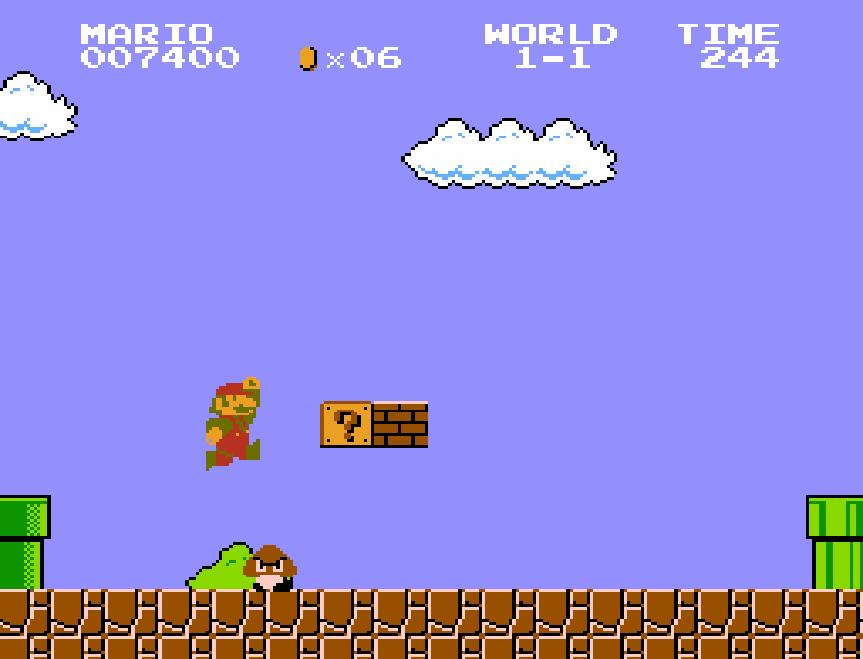big_mario: (203, 375, 261, 473)
